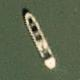ship: (0, 5, 19, 73)
